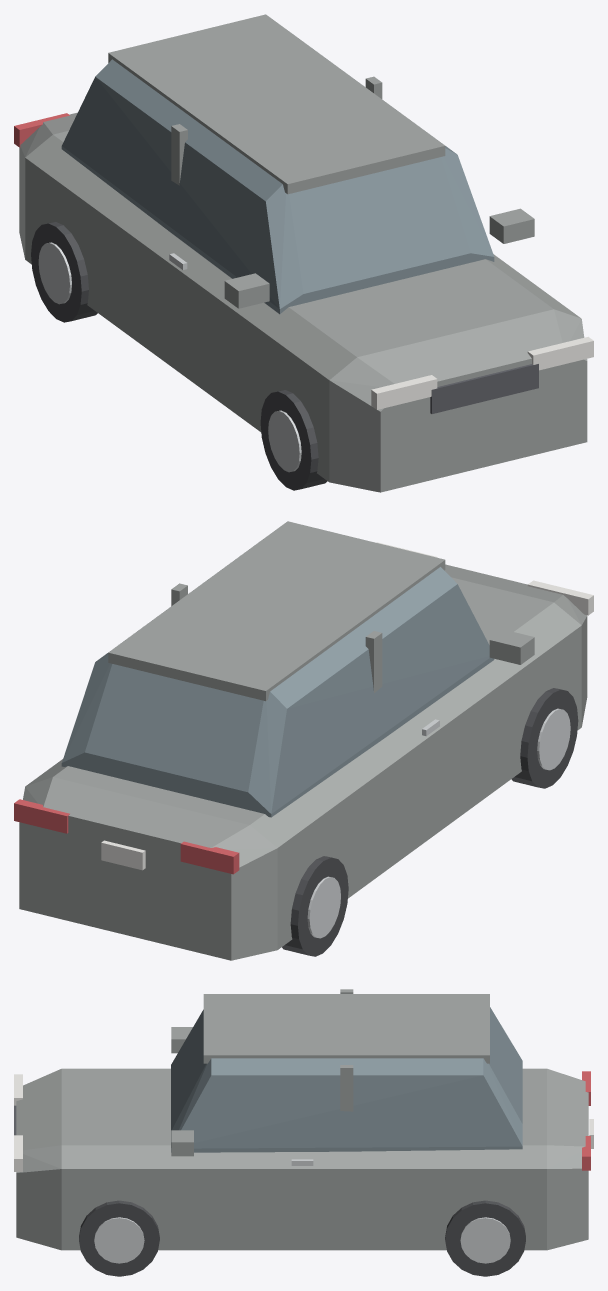
Rendered from ivm-g5-2021.glb.
The picture shows the model from 3 angles, top to bottom: view 1: azimuth 30°, elevation 25°; view 2: azimuth 150°, elevation 25°; view 3: azimuth 270°, elevation 25°; orthographic projection. The views are drawn at different scales.
Visible parts, largest first — view 1: body, cabin_glass, roof, wheel_-1_1_tire, wheel_-1_-1_tire, grille, wheel_-1_-1_rim, wheel_-1_1_rim, headlight_-1, headlight_1, mirror_-1, mirror_1 (+1 smaller); view 2: body, cabin_glass, roof, wheel_-1_1_tire, wheel_-1_-1_tire, wheel_-1_1_rim, wheel_-1_-1_rim, taillight_-1, mirror_-1, taillight_1, rear_plate, pillar_-1 (+1 smaller); view 3: body, cabin_glass, roof, wheel_1_-1_tire, wheel_1_1_tire, wheel_1_1_rim, wheel_1_-1_rim, pillar_1, mirror_1, mirror_-1.
Part boxes in pixels (x1=…): body: x1=19, y1=112, x2=587, y2=492; cabin_glass: x1=61, y1=59, x2=494, y2=314; roof: x1=108, y1=14, x2=445, y2=194; wheel_-1_1_tire: x1=260, y1=390, x2=327, y2=490; wheel_-1_-1_tire: x1=31, y1=221, x2=97, y2=322; grille: x1=430, y1=364, x2=538, y2=413; wheel_-1_-1_rim: x1=38, y1=242, x2=71, y2=304; wheel_-1_1_rim: x1=268, y1=410, x2=301, y2=472; headlight_-1: x1=371, y1=375, x2=437, y2=409; headlight_1: x1=527, y1=336, x2=593, y2=370; mirror_-1: x1=224, y1=273, x2=269, y2=308; mirror_1: x1=489, y1=208, x2=534, y2=243; body: x1=19, y1=564, x2=587, y2=960; cabin_glass: x1=61, y1=567, x2=494, y2=817; roof: x1=108, y1=521, x2=445, y2=701; wheel_-1_1_tire: x1=511, y1=688, x2=578, y2=788; wheel_-1_-1_tire: x1=282, y1=856, x2=348, y2=956; wheel_-1_1_rim: x1=537, y1=708, x2=570, y2=770; wheel_-1_-1_rim: x1=307, y1=876, x2=340, y2=938; taillight_-1: x1=180, y1=841, x2=239, y2=874; mirror_-1: x1=489, y1=629, x2=534, y2=664; taillight_1: x1=14, y1=799, x2=69, y2=833; rear_plate: x1=101, y1=840, x2=145, y2=870; pillar_-1: x1=365, y1=631, x2=382, y2=692; body: x1=16, y1=1068, x2=588, y2=1250; cabin_glass: x1=171, y1=1007, x2=522, y2=1152; roof: x1=203, y1=994, x2=489, y2=1063; wheel_1_-1_tire: x1=445, y1=1200, x2=525, y2=1276; wheel_1_1_tire: x1=79, y1=1200, x2=159, y2=1276; wheel_1_1_rim: x1=94, y1=1217, x2=144, y2=1263; wheel_1_-1_rim: x1=460, y1=1217, x2=510, y2=1263; pillar_1: x1=340, y1=1065, x2=353, y2=1111; mirror_1: x1=171, y1=1130, x2=193, y2=1156; mirror_-1: x1=171, y1=1027, x2=192, y2=1053.
Bounding box in the file's own units: 2.29 × 1.85 × 4.87.
